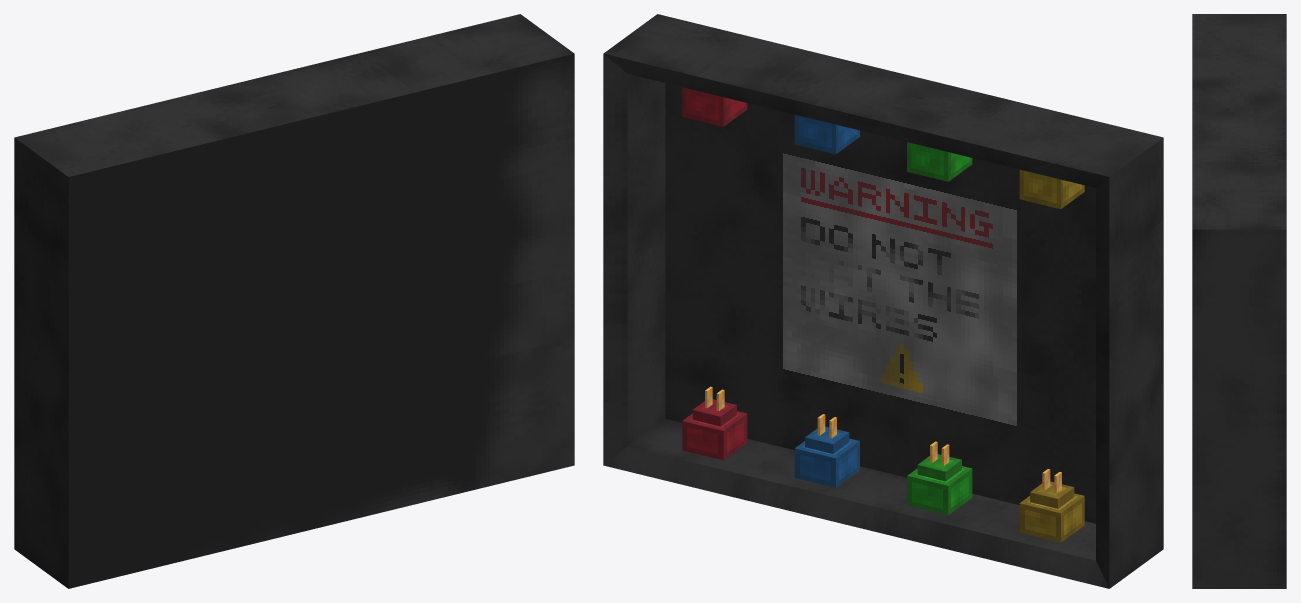
The model's file is wireTask - merged.gltf.
The picture shows the model from 3 angles, left to right: view 1: azimuth 30°, elevation 25°; view 2: azimuth 150°, elevation 25°; view 3: azimuth 270°, elevation 25°; orthographic projection. The views are drawn at different scales.
Visible parts, largest first — view 1: box; view 2: box, body (×4), cuboid (×4); view 3: box.
Part boxes in pixels (box(x1,y1,x2,y2)): box: box(14, 14, 574, 588); box: box(603, 14, 1163, 588); body (×4): box(682, 386, 1084, 542); cuboid (×4): box(682, 87, 1084, 209); box: box(1192, 14, 1286, 588).
Size of the model in its own units: 3.38 by 2.62 by 0.625.
Materials: 10 (10 with a texture image).
